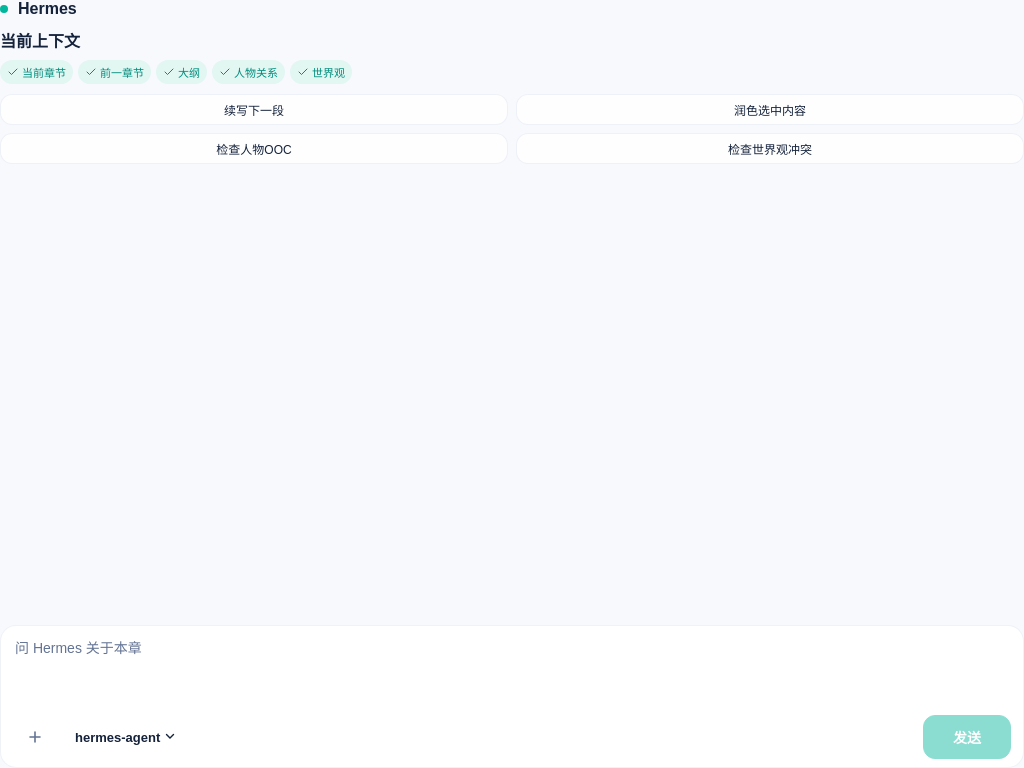
it: EchoChat › sends a message with chapter context and streams the reply
Type "Review this chapter" into the text box named "给 Hermes 的消息" at (512, 670), box [13,636,1011,703]
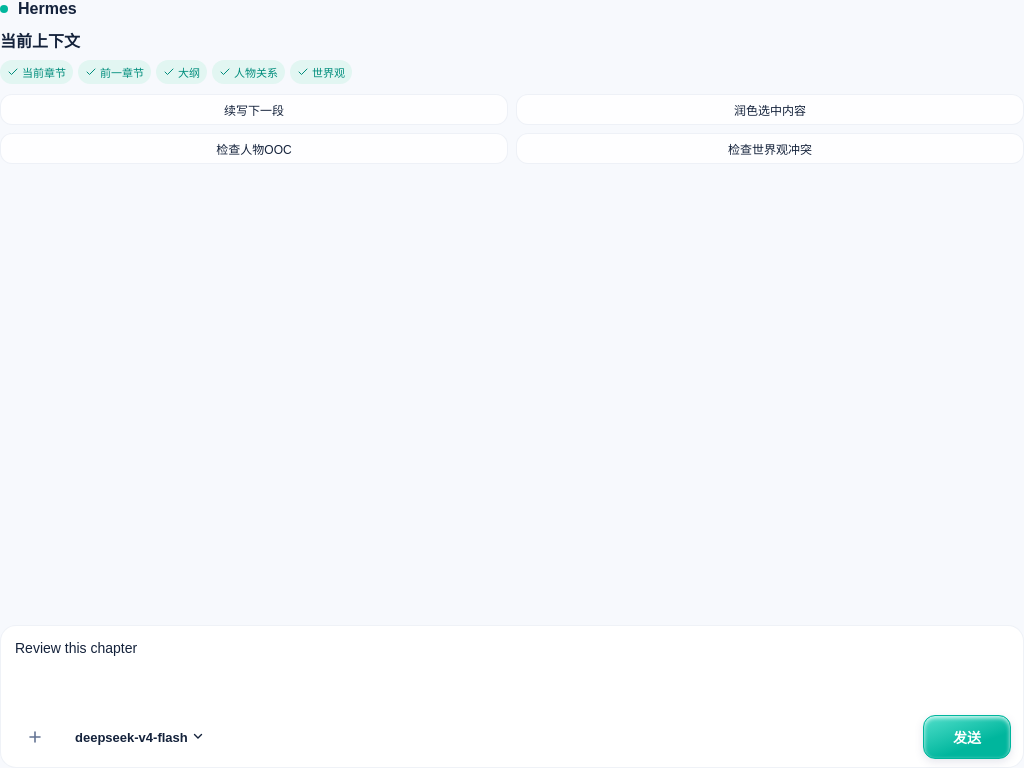
Click the button "发送" at (967, 737), box [923,715,1011,759]
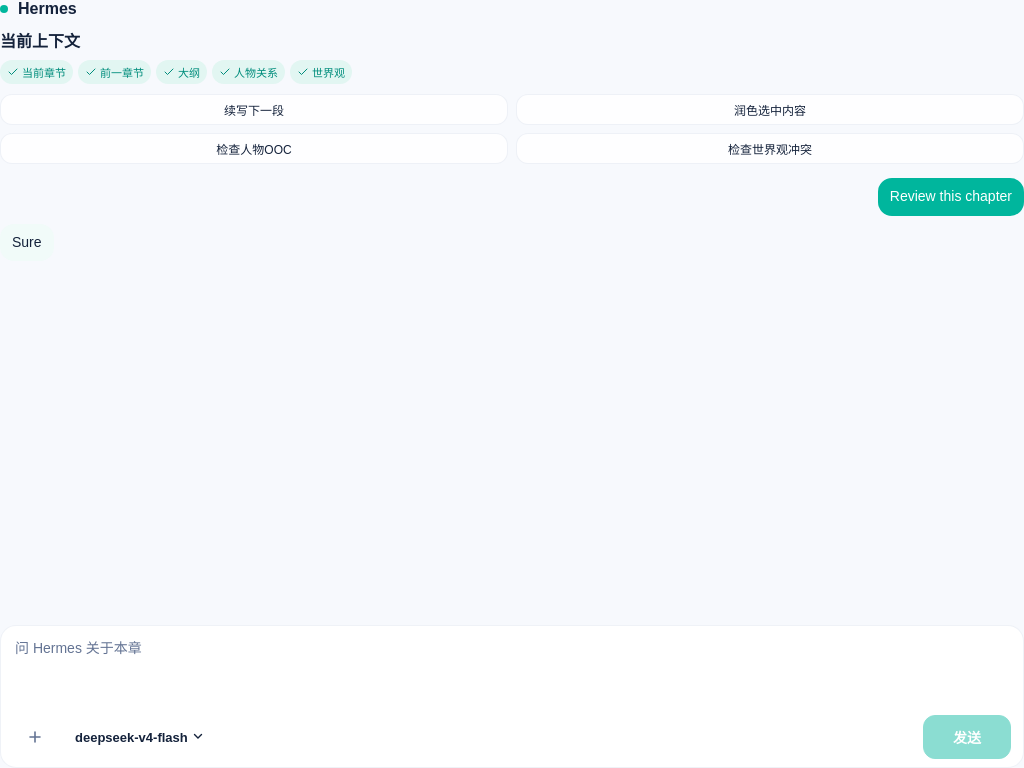
Expected: the element showing "Review this chapter Sure" does not show "不要把 characters.json", [0,178,1023,261]
Result: the button "deepseek-v4-flash" is shown at [65,719,214,755]
Result: the element showing "Review this chapter Sure" is shown at [0,178,1023,261]
